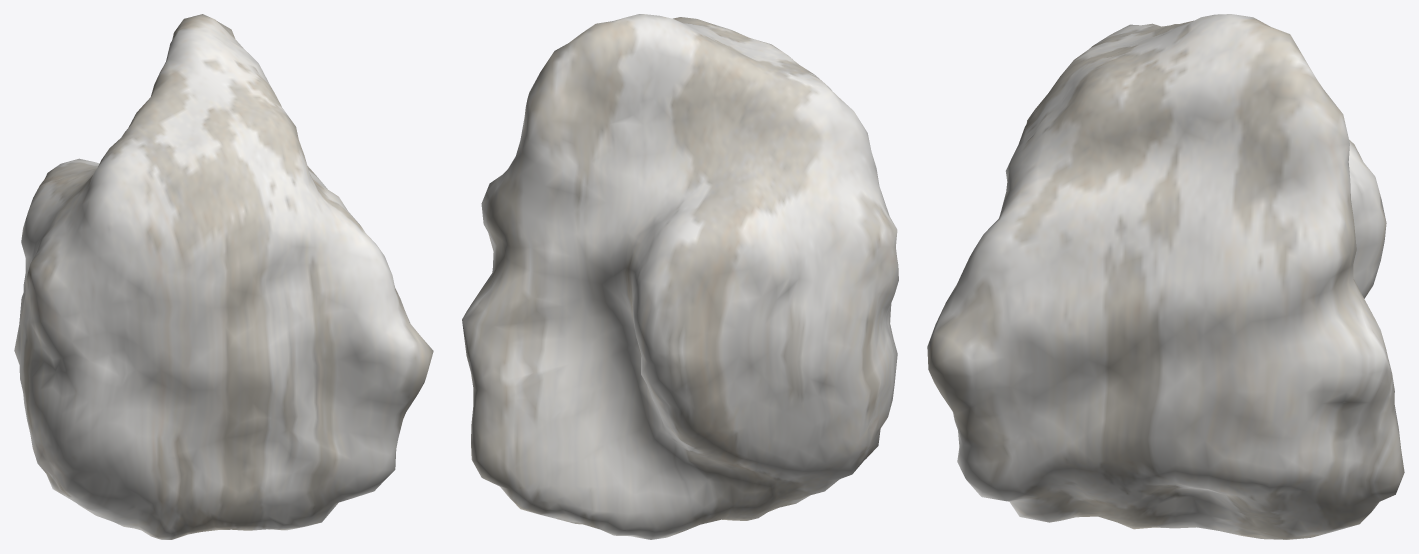
File: golevka.obj
3 renders of one model, left to right at view 1: azimuth 30°, elevation 25°; view 2: azimuth 150°, elevation 25°; view 3: azimuth 270°, elevation 25°, orthographic. The views are drawn at different scales.
Visible parts, largest first — view 1: 6489golevka; view 2: 6489golevka; view 3: 6489golevka.
Boxes of the visible parts, <box> form: 6489golevka: <box>14,14,433,539</box>; 6489golevka: <box>462,14,898,539</box>; 6489golevka: <box>927,14,1404,539</box>.
Size of the model in its own units: 0.8325 by 1.17 by 0.9743.
1 material, 1 textured.
